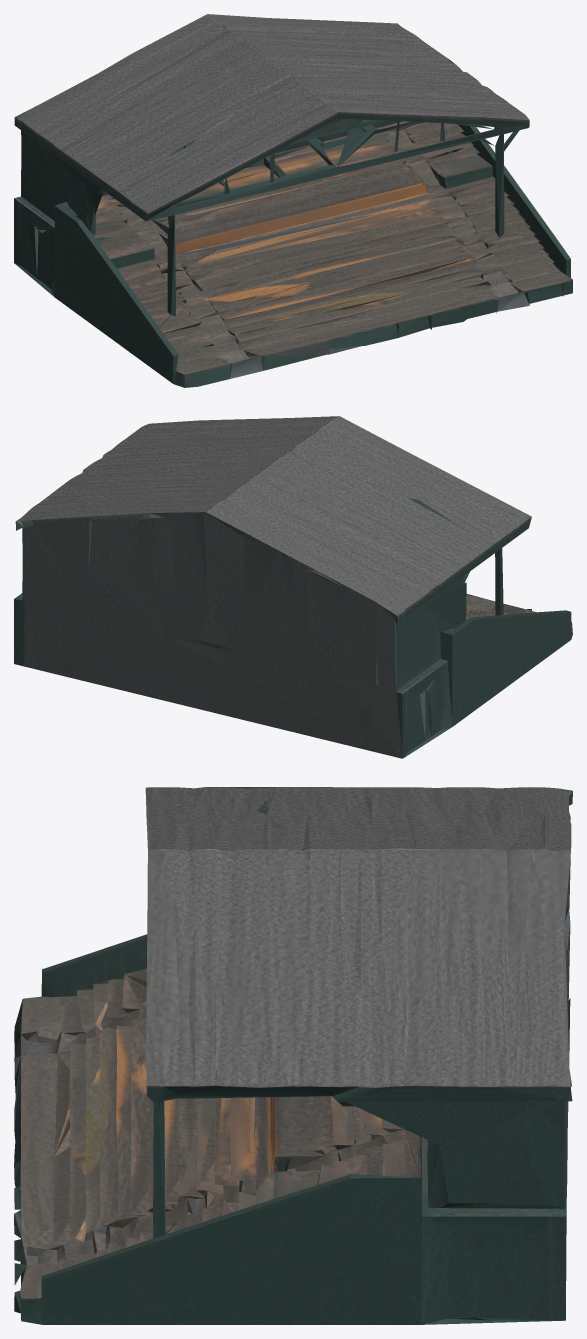
Rendered from stand.glb.
3 renders of one model, top to bottom at view 1: azimuth 30°, elevation 25°; view 2: azimuth 150°, elevation 25°; view 3: azimuth 270°, elevation 25°, orthographic. The views are drawn at different scales.
Size of the model in its own units: 1.9 by 0.9171 by 1.45.
1 material, 1 textured.
